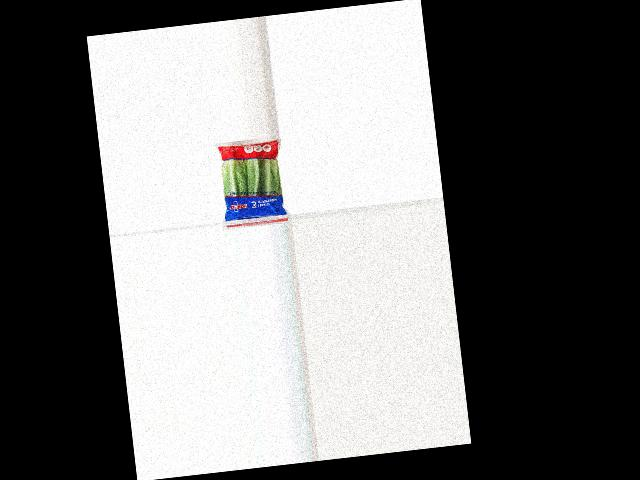lettuce: (213, 136, 287, 225)
